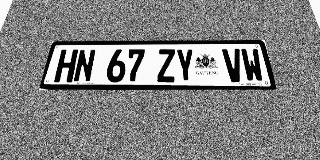6: (106, 49, 127, 82)
7: (125, 49, 145, 82)
H: (53, 49, 78, 82)
N: (72, 49, 96, 82)
V: (222, 49, 245, 82)
W: (240, 49, 265, 82)
Y: (175, 49, 195, 82)
Z: (157, 49, 176, 82)
